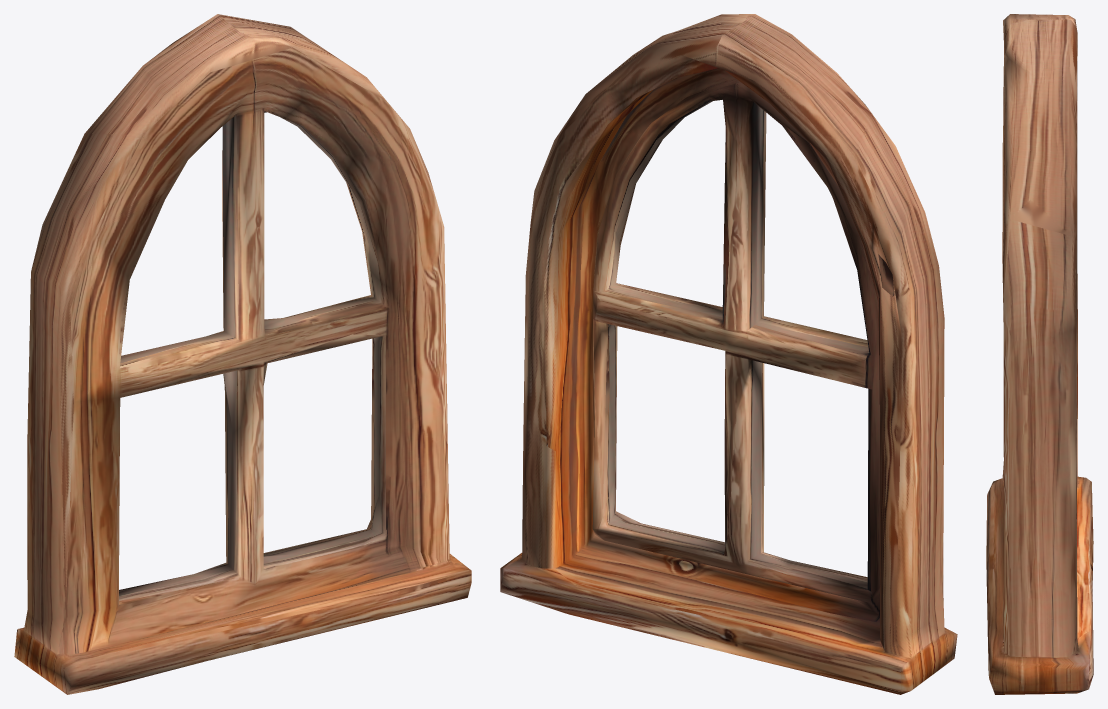
The model's file is fenetre_simple.glb.
The picture shows the model from 3 angles, left to right: view 1: azimuth 30°, elevation 25°; view 2: azimuth 150°, elevation 25°; view 3: azimuth 270°, elevation 25°; orthographic projection. The views are drawn at different scales.
Parts seen in each view (by area): view 1: Kit_Window_Wood_01.001; view 2: Kit_Window_Wood_01.001; view 3: Kit_Window_Wood_01.001.
Boxes of the visible parts, <box> form: Kit_Window_Wood_01.001: <box>14,14,471,694</box>; Kit_Window_Wood_01.001: <box>500,14,957,694</box>; Kit_Window_Wood_01.001: <box>986,14,1093,694</box>.
Bounding box in the file's own units: 0.7068 × 0.9998 × 0.168.
Materials: 1 (1 with a texture image).
